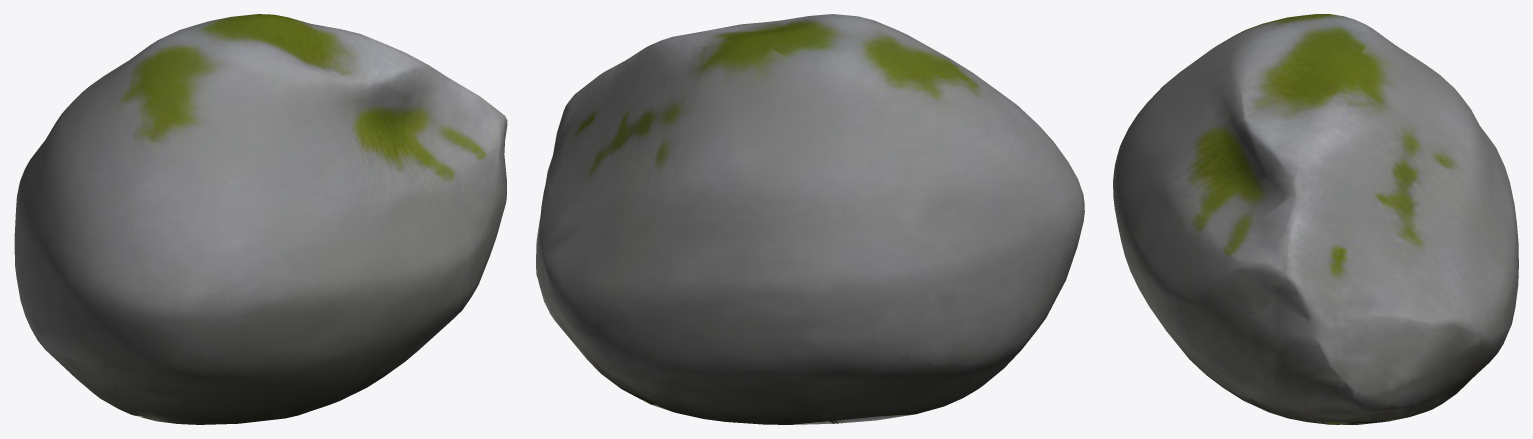
File: rock_medium.glb
The picture shows the model from 3 angles, left to right: view 1: azimuth 30°, elevation 25°; view 2: azimuth 150°, elevation 25°; view 3: azimuth 270°, elevation 25°; orthographic projection. The views are drawn at different scales.
Parts seen in each view (by area): view 1: node_0; view 2: node_0; view 3: node_0.
Part boxes in pixels (x1,y1,x2,y2): node_0: (14,14,507,424); node_0: (536,14,1084,424); node_0: (1113,14,1518,424).
Size of the model in its own units: 1.5 by 1 by 1.2.
1 material, 1 textured.
